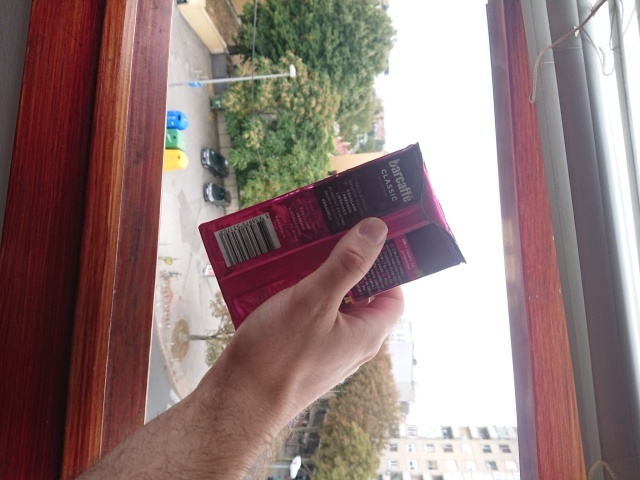Barcaffe Classic Original 225g: (195, 139, 470, 348)
